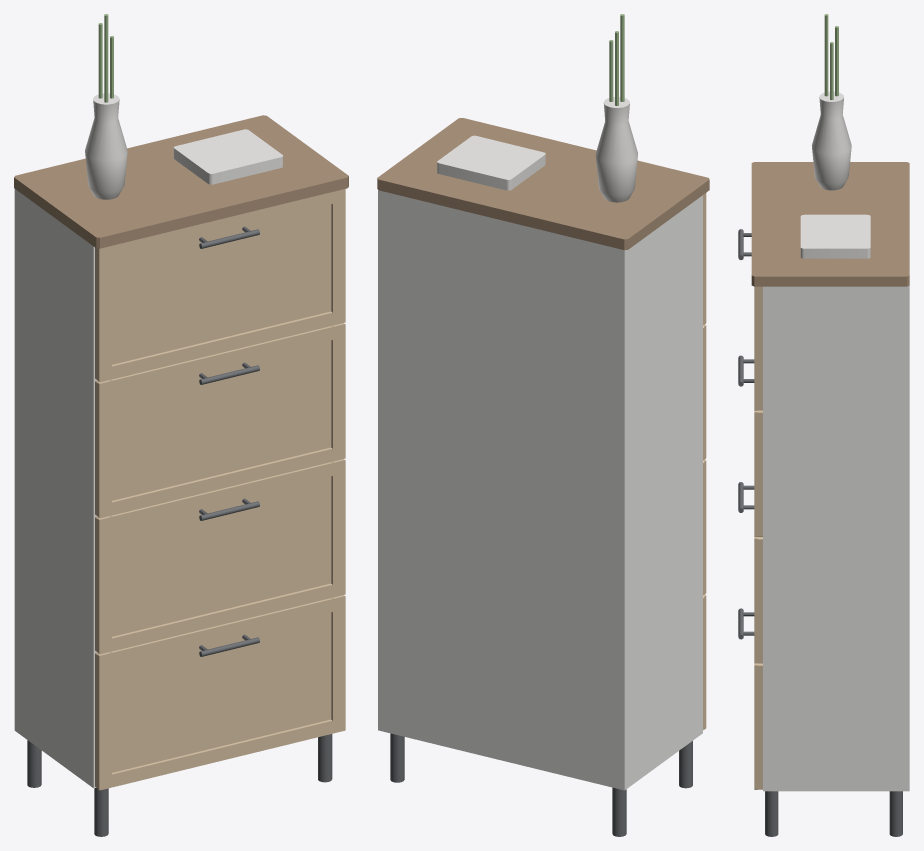
3 renders of one model, left to right at view 1: azimuth 30°, elevation 25°; view 2: azimuth 150°, elevation 25°; view 3: azimuth 270°, elevation 25°, orthographic. The views are drawn at different scales.
Visible parts, largest first — view 1: Tủ giày Dài=600; Sâu=350; view 2: Tủ giày Dài=600; Sâu=350; view 3: Tủ giày Dài=600; Sâu=350.
Part boxes in pixels (x1,y1,x2,y2): Tủ giày Dài=600; Sâu=350: (14,14,348,836); Tủ giày Dài=600; Sâu=350: (377,14,709,836); Tủ giày Dài=600; Sâu=350: (738,14,909,836).
Size of the model in its own units: 0.61 by 1.82 by 0.385.
